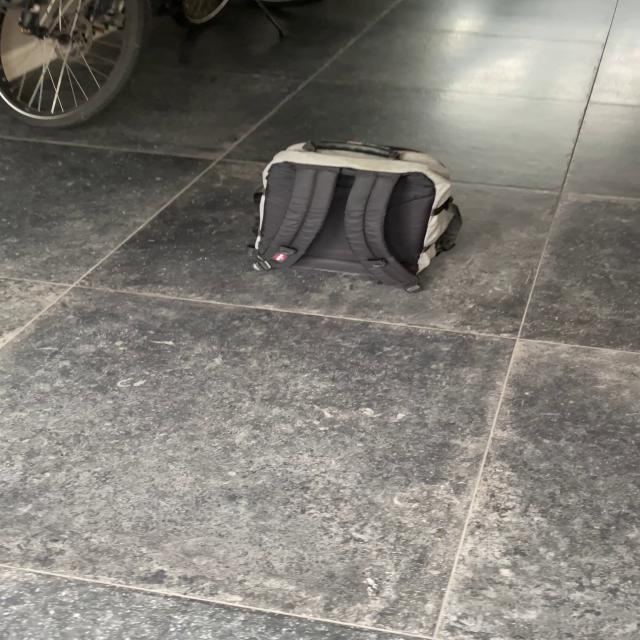backpack: (242, 134, 470, 284)
